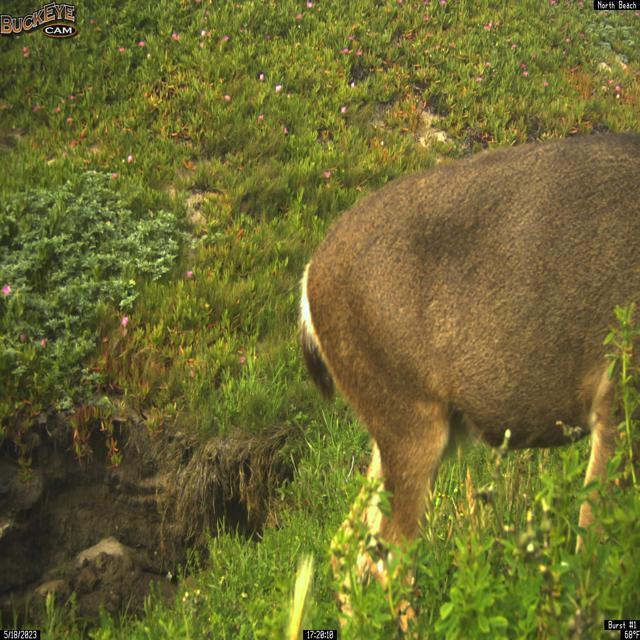deer: (297, 130, 640, 639)
